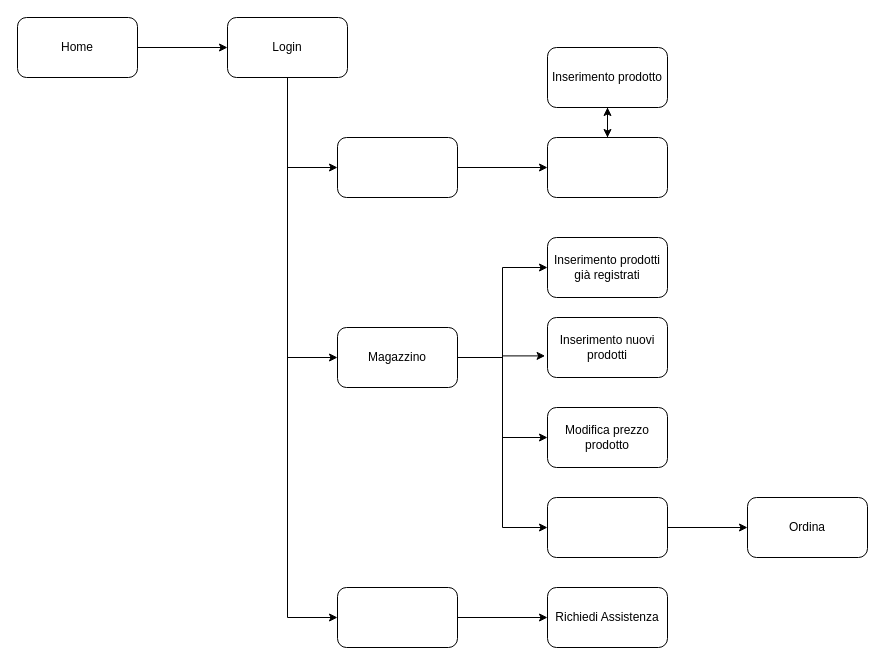
Image size: 885x665. Some labels were removed from this diagram. Each missing label, with the centre of its shape:
"Acquisto Prodotti" goes at point (607, 167).
"Assistenza" goes at point (397, 617).
"Cassa" goes at point (397, 167).
"Quantità consigliata di acquisto" goes at point (607, 527).
